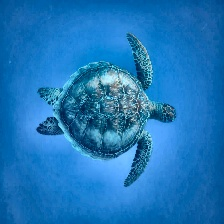seaturtle: (34, 31, 177, 194)
